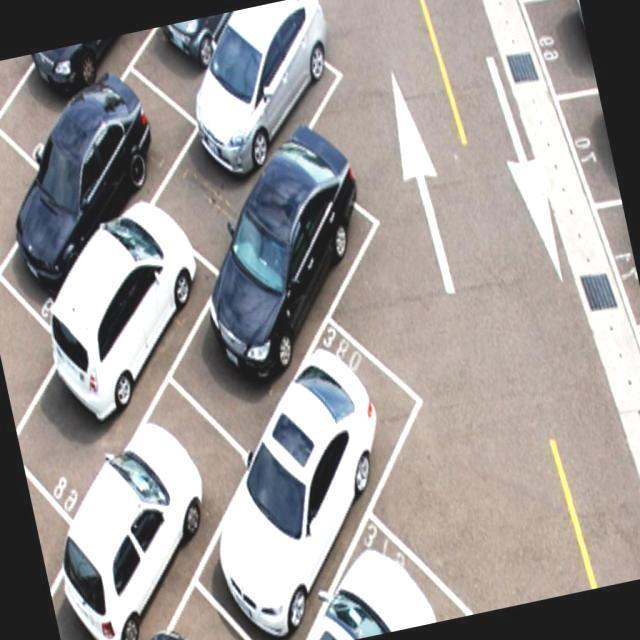space-occupied: (194, 314, 418, 614), (144, 13, 385, 273), (29, 420, 245, 638), (0, 238, 207, 454), (0, 73, 191, 273), (286, 503, 458, 639), (0, 30, 161, 139), (143, 8, 266, 112), (532, 0, 598, 97)
